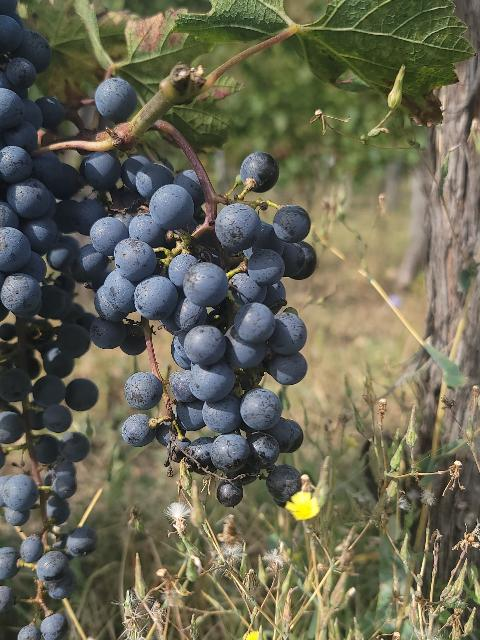grapes: (84, 182, 328, 511)
